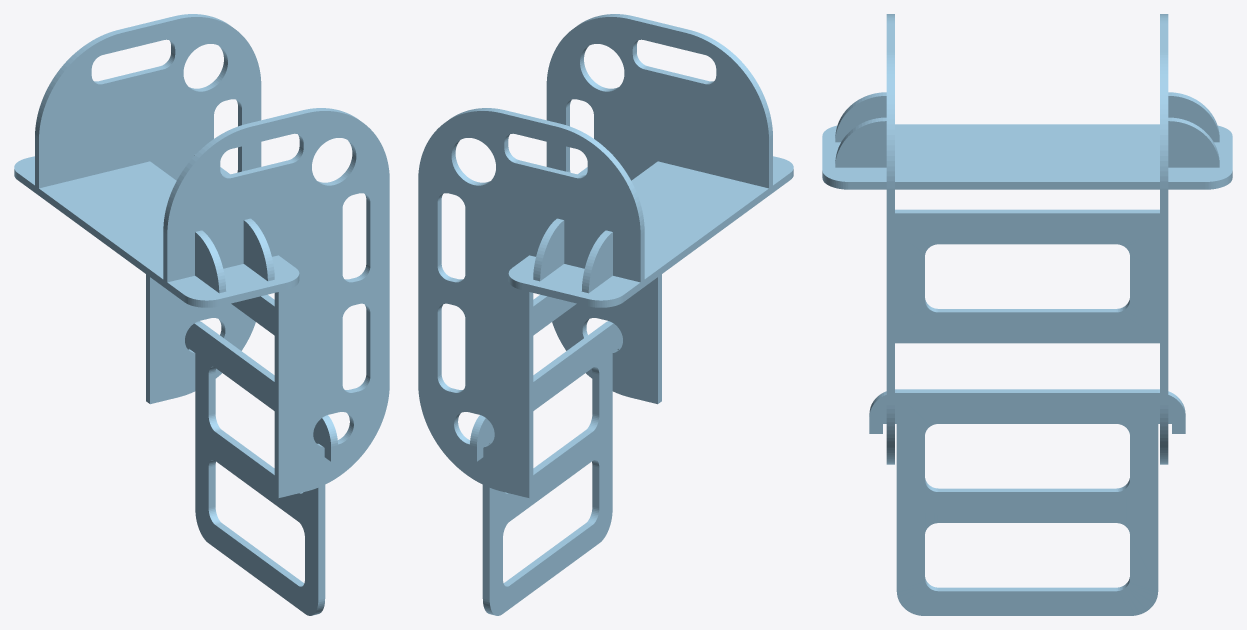
Rendered from BarbourSmith_Swimming_ladder.glb.
3 renders of one model, left to right at view 1: azimuth 30°, elevation 25°; view 2: azimuth 150°, elevation 25°; view 3: azimuth 270°, elevation 25°, orthographic. The views are drawn at different scales.
Parts seen in each view (by area): view 1: part-0, part-1, part-10, part-2, part-7, part-3, part-4; view 2: part-1, part-0, part-10, part-2, part-7, part-6, part-5; view 3: part-10, part-7, part-2, part-0, part-1, part-3, part-6, part-4, part-5.
Boxes of the visible parts, box(x1,y1,x2,y2) form: part-0: box(163, 108, 389, 498); part-1: box(35, 14, 261, 404); part-10: box(185, 321, 337, 615); part-2: box(14, 156, 299, 307); part-7: box(194, 155, 329, 370); part-3: box(243, 218, 274, 281); part-4: box(195, 230, 226, 293); part-1: box(418, 108, 644, 498); part-0: box(546, 14, 772, 404); part-10: box(470, 321, 622, 615); part-2: box(508, 156, 793, 307); part-7: box(478, 155, 613, 370); part-6: box(533, 218, 564, 281); part-5: box(581, 230, 612, 293); part-10: box(869, 389, 1185, 615); part-7: box(895, 209, 1159, 343); part-2: box(822, 124, 1232, 189); part-0: box(886, 14, 894, 464); part-1: box(1160, 14, 1168, 464); part-3: box(835, 117, 886, 167); part-6: box(1168, 117, 1219, 167); part-4: box(835, 92, 886, 142); part-5: box(1168, 92, 1219, 142).
Size of the model in its own units: 400 by 890 by 600.
